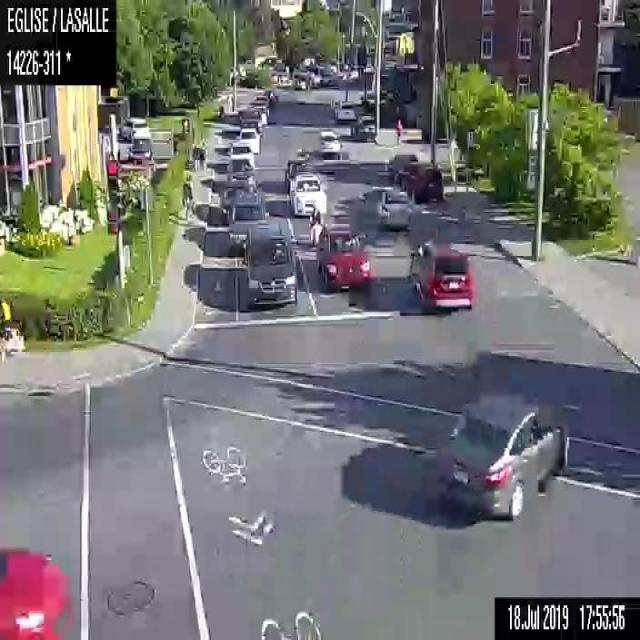pedestrian: (181, 180, 194, 221), (199, 137, 207, 171), (393, 115, 402, 145), (191, 140, 198, 172), (224, 92, 232, 114)
vehicle: (434, 391, 576, 522), (0, 545, 73, 639), (406, 238, 476, 314), (243, 219, 299, 307), (316, 222, 372, 291), (229, 187, 268, 254), (218, 173, 256, 220), (288, 171, 326, 215), (407, 161, 443, 205), (374, 189, 410, 232), (284, 157, 313, 195), (387, 151, 417, 180), (226, 156, 254, 184), (227, 142, 256, 168), (317, 126, 340, 158), (120, 115, 148, 139), (127, 136, 151, 163), (308, 200, 322, 246), (234, 126, 258, 152), (238, 108, 262, 134), (351, 115, 374, 142), (333, 99, 355, 119), (255, 105, 268, 125), (261, 89, 276, 105), (250, 94, 268, 106)
